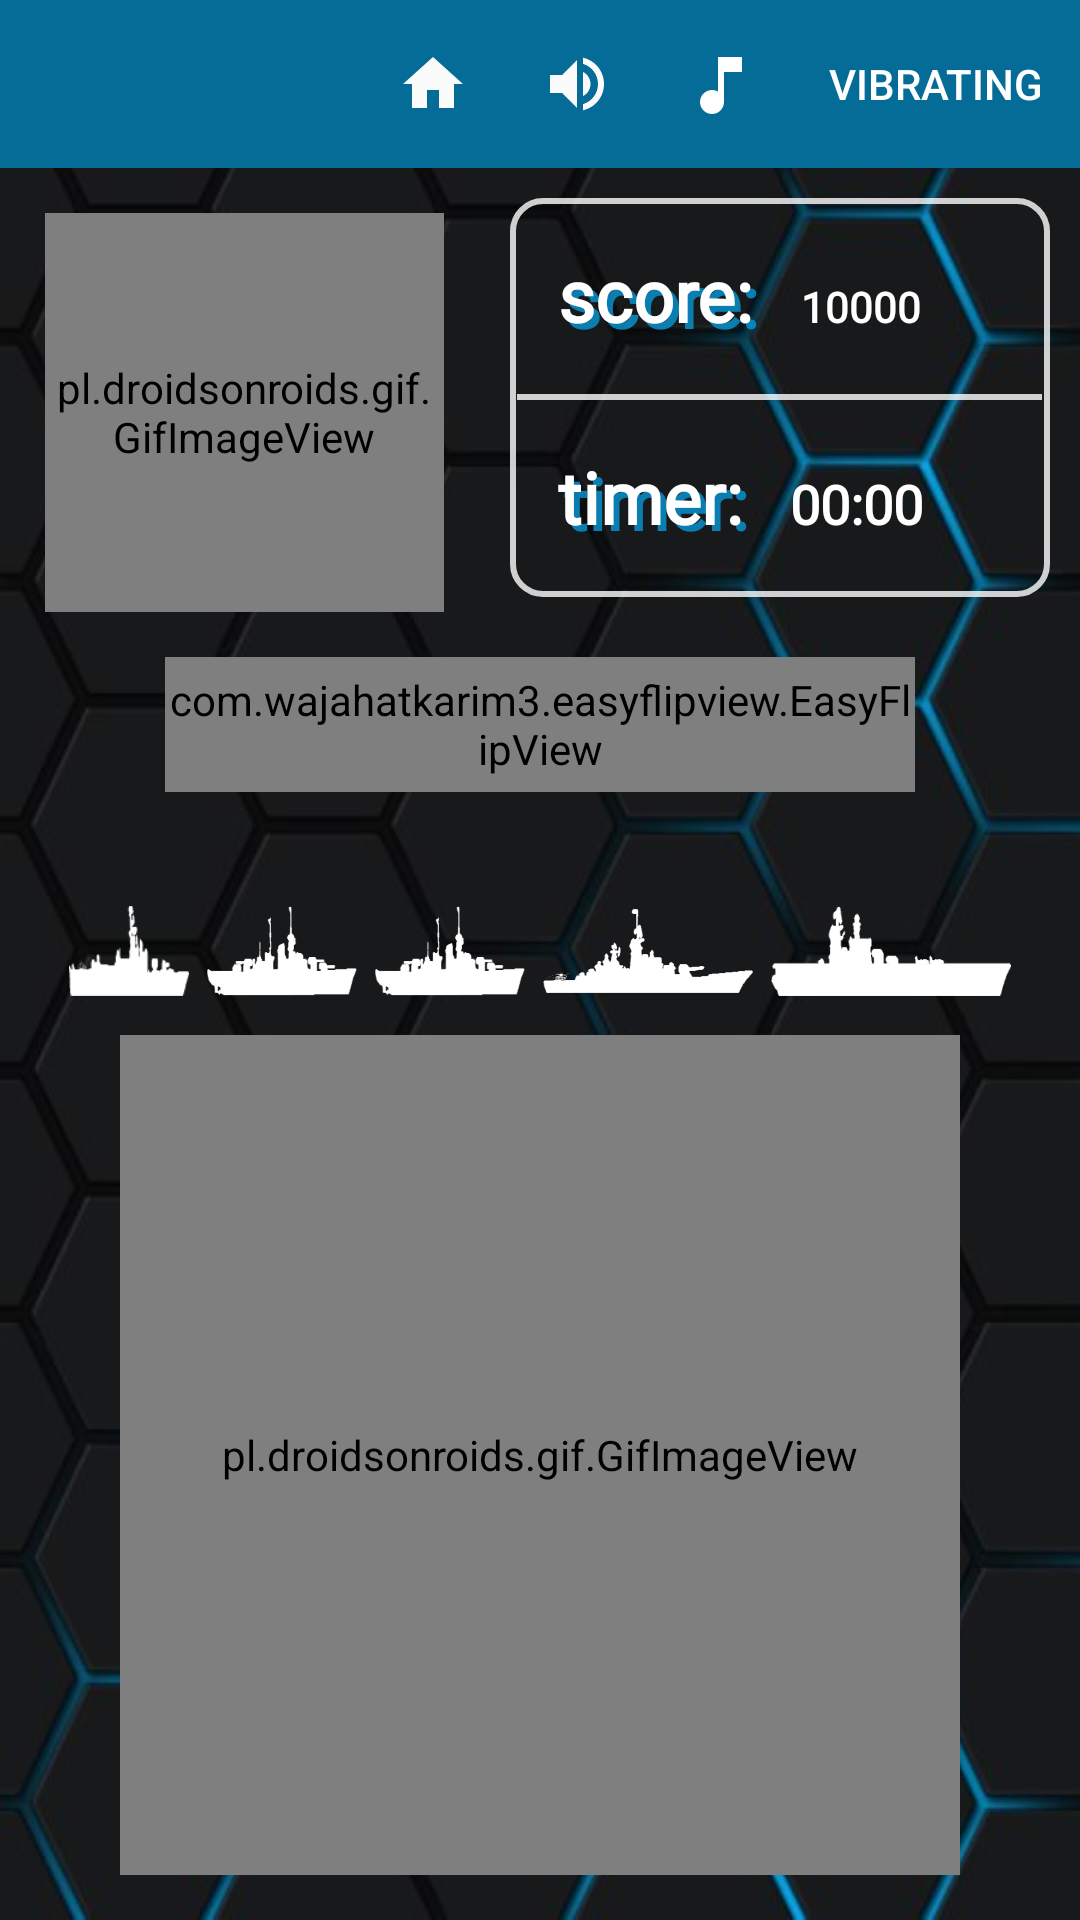

Point at icon controls on the screen. Image size 1080px x 1920px, points as (x=x, y=y).
ship: (x=129, y=951), (x=282, y=951), (x=450, y=951), (x=891, y=951), (x=648, y=951)
